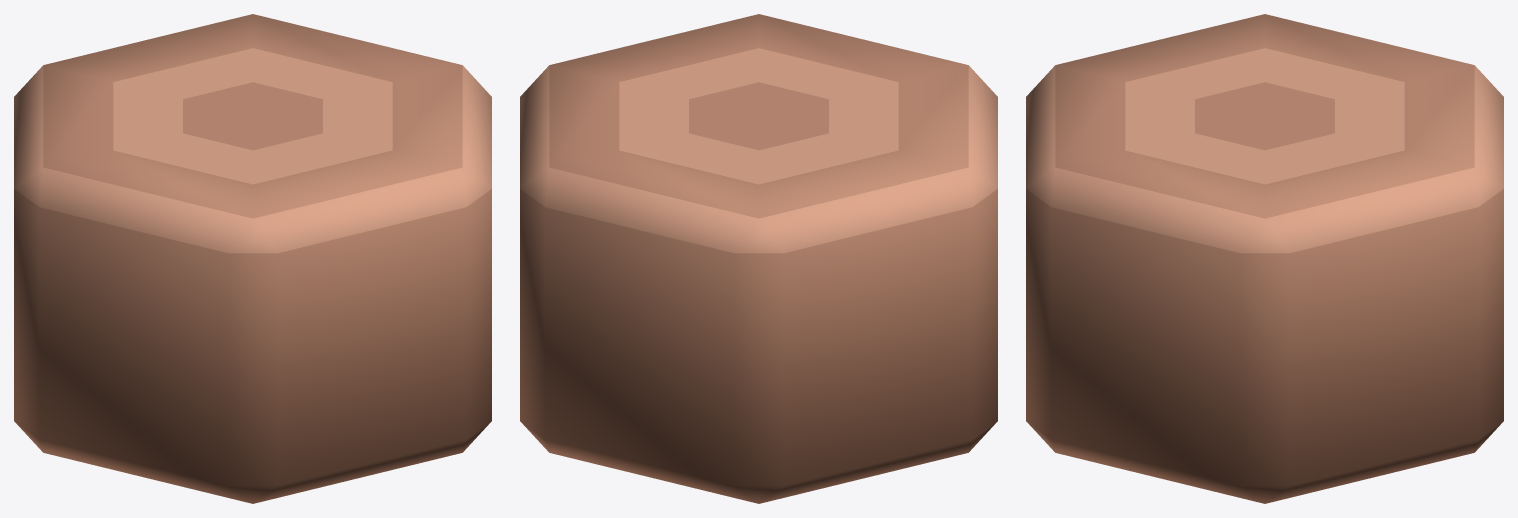
Rendered from Character_Box.fbx.
3 views of the same model, side by side, from view 1: azimuth 30°, elevation 25°; view 2: azimuth 150°, elevation 25°; view 3: azimuth 270°, elevation 25° (orthographic).
Visible parts, largest first — view 1: stump_1; view 2: stump_1; view 3: stump_1.
Part boxes in pixels (x1,y1,x2,y2): stump_1: (14, 14, 491, 503); stump_1: (520, 14, 997, 503); stump_1: (1026, 14, 1503, 503).
Bounding box in the file's own units: 71.64 × 43.16 × 65.5.
Materials: 1 (1 with a texture image).
